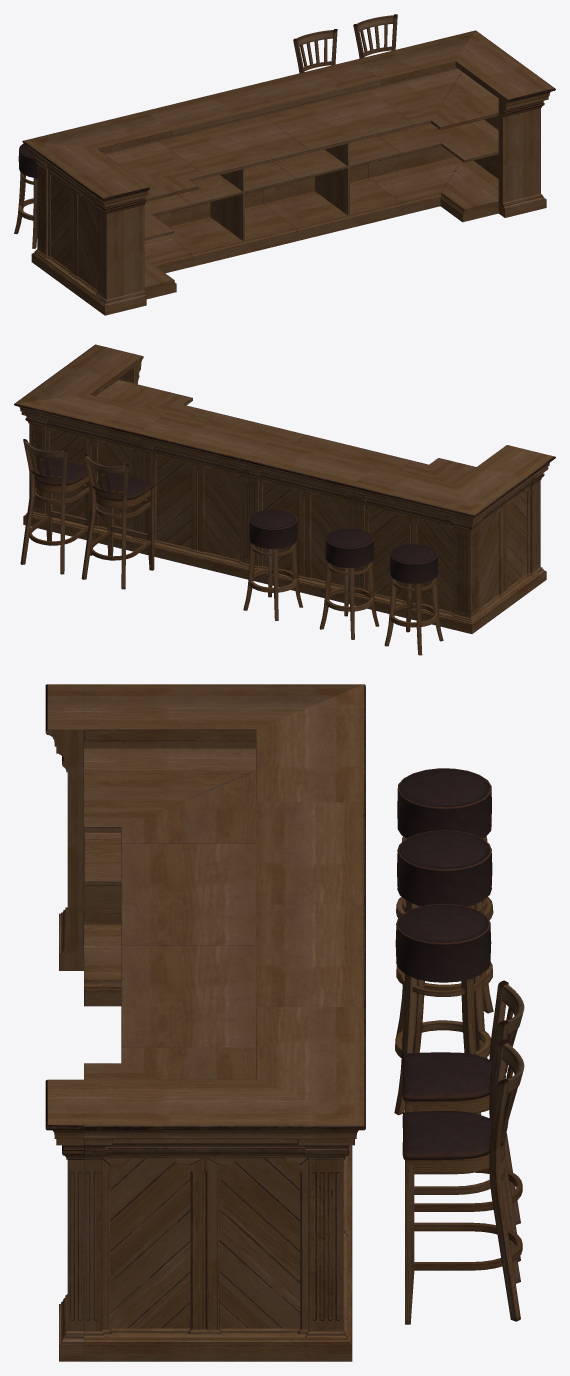
Rendered from coffee_bar.glb.
3 renders of one model, top to bottom at view 1: azimuth 30°, elevation 25°; view 2: azimuth 150°, elevation 25°; view 3: azimuth 270°, elevation 25°, orthographic. The views are drawn at different scales.
Parts seen in each view (by area): view 1: Object_8, Object_12, Object_6, Object_18, Object_4; view 2: Object_8, Object_12, Object_4, Object_18, Object_6; view 3: Object_8, Object_12, Object_4, Object_18, Object_6.
Boxes of the visible parts, left/top/right/bottom form: Object_8: left=22, top=30, right=545, bottom=310; Object_12: left=145, top=60, right=414, bottom=266; Object_6: left=93, top=81, right=555, bottom=315; Object_18: left=293, top=14, right=397, bottom=73; Object_4: left=14, top=143, right=37, bottom=248; Object_8: left=14, top=351, right=545, bottom=633; Object_12: left=138, top=409, right=412, bottom=604; Object_4: left=243, top=509, right=443, bottom=655; Object_18: left=20, top=439, right=154, bottom=589; Object_6: left=86, top=344, right=555, bottom=583; Object_8: left=84, top=684, right=365, bottom=1361; Object_12: left=121, top=802, right=365, bottom=1231; Object_4: left=394, top=768, right=493, bottom=1115; Object_18: left=402, top=980, right=524, bottom=1324; Object_6: left=45, top=684, right=83, bottom=1361.
Size of the model in its own units: 4.33 by 1.1 by 1.98.
5 materials, 5 textured.
